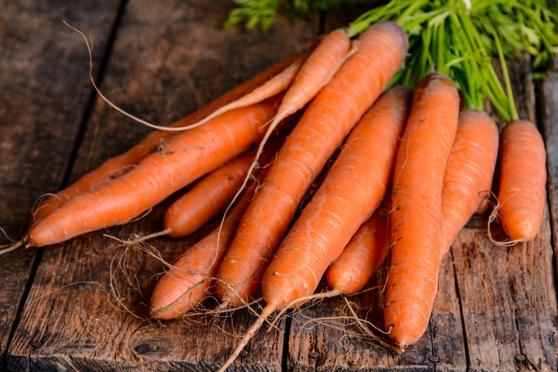carrot: (389, 74, 459, 349)
